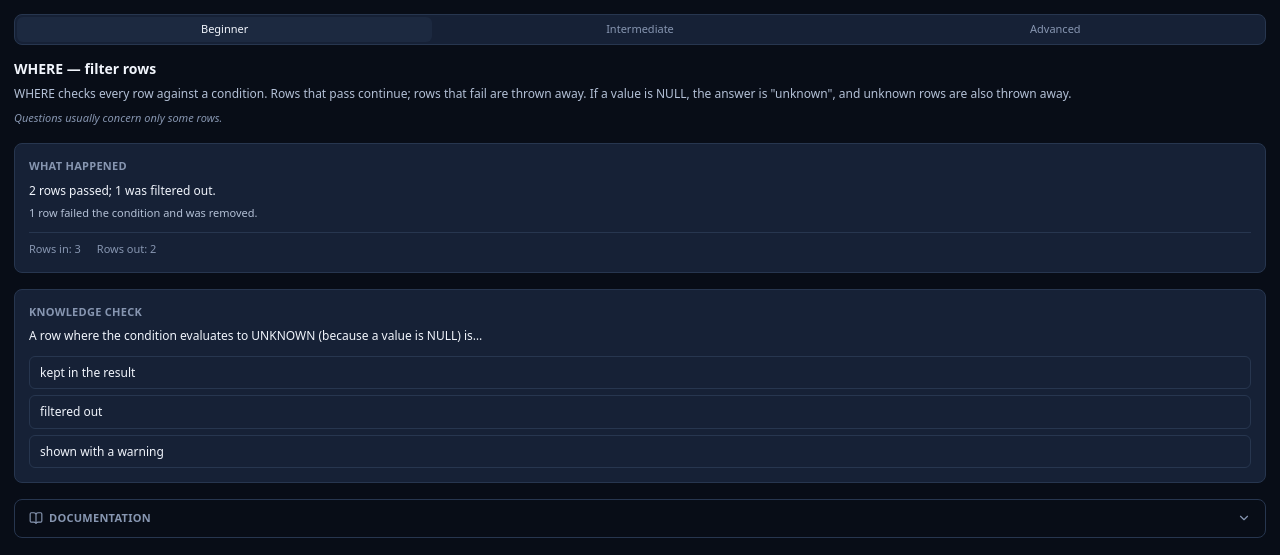
Test: ExplanationPanel › switching to Advanced shows the advanced concept and hides the knowledge check
The width and height of the screenshot is (1280, 555).
Expected: the text "Knowledge check" is shown, [29,304,142,318]
Step 1. Click the tab "Advanced" → (1055, 29), box [848,17,1263,42]
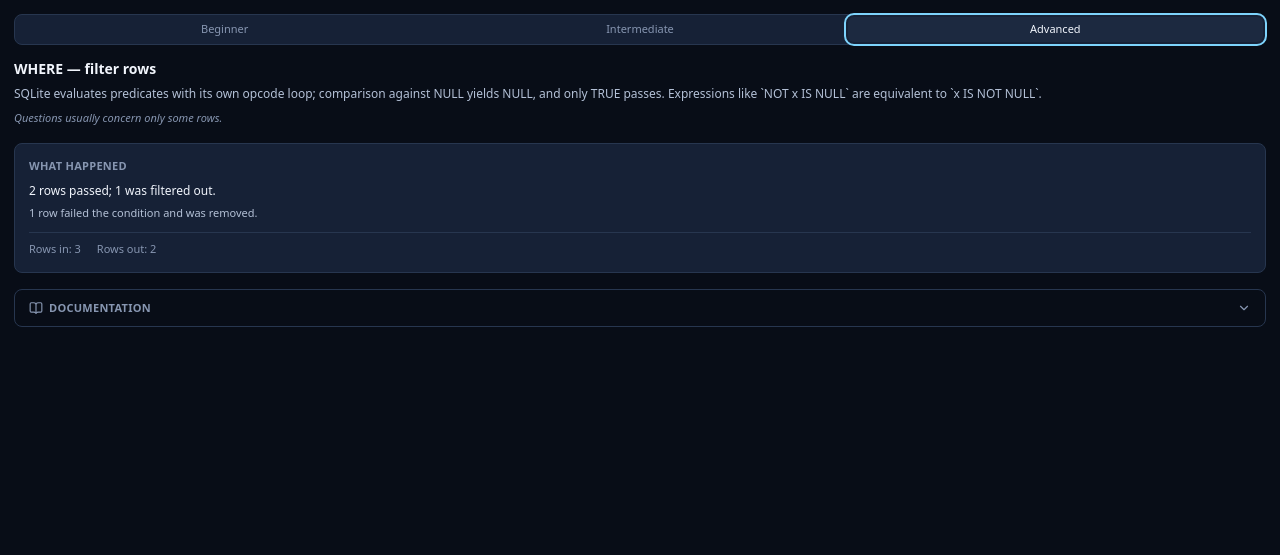
Result: the text "SQLite evaluates predicates with its own opcode loop" is shown at [14,85,1042,102]
Result: the text "Knowledge check" is gone
